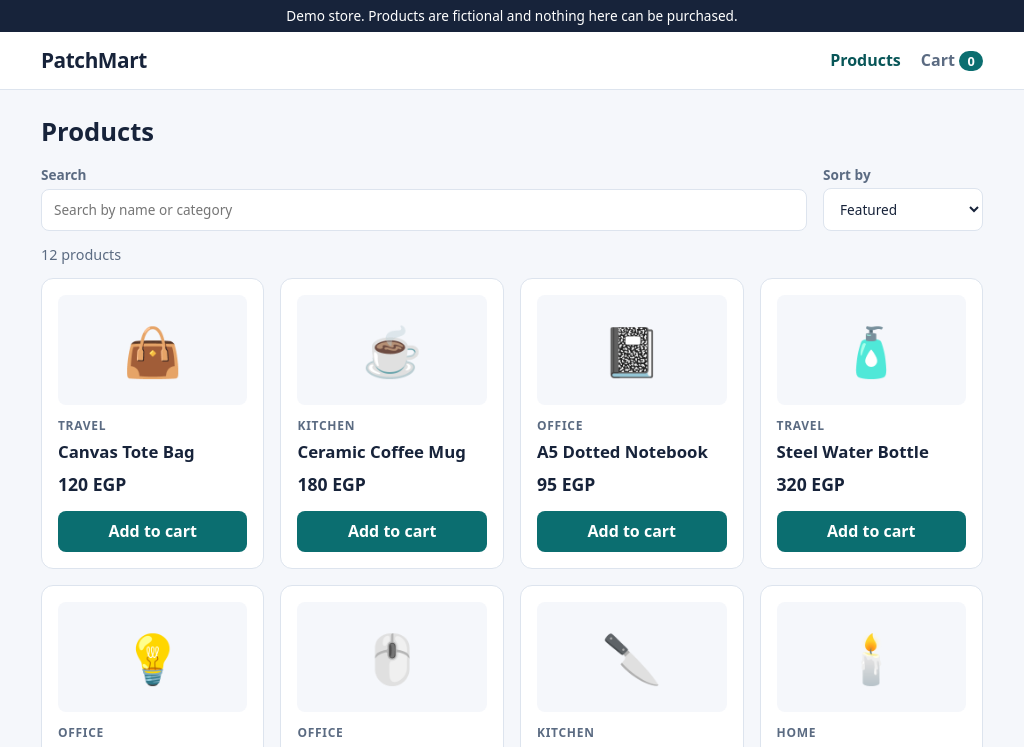
it: cart page › lists added products and keeps checkout disabled
The image size is (1024, 747).
Click the button "Add to cart" below "Ceramic Coffee Mug": (392, 532) [298, 511, 487, 552]
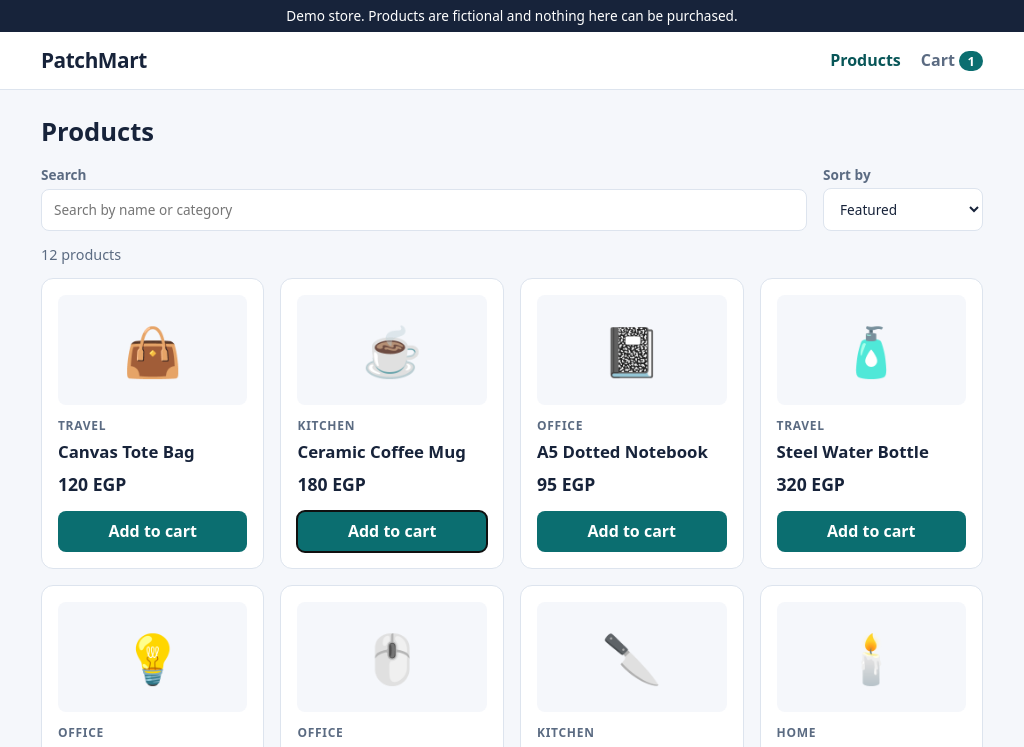
Click the link "Cart 1": (952, 60) [921, 49, 983, 71]
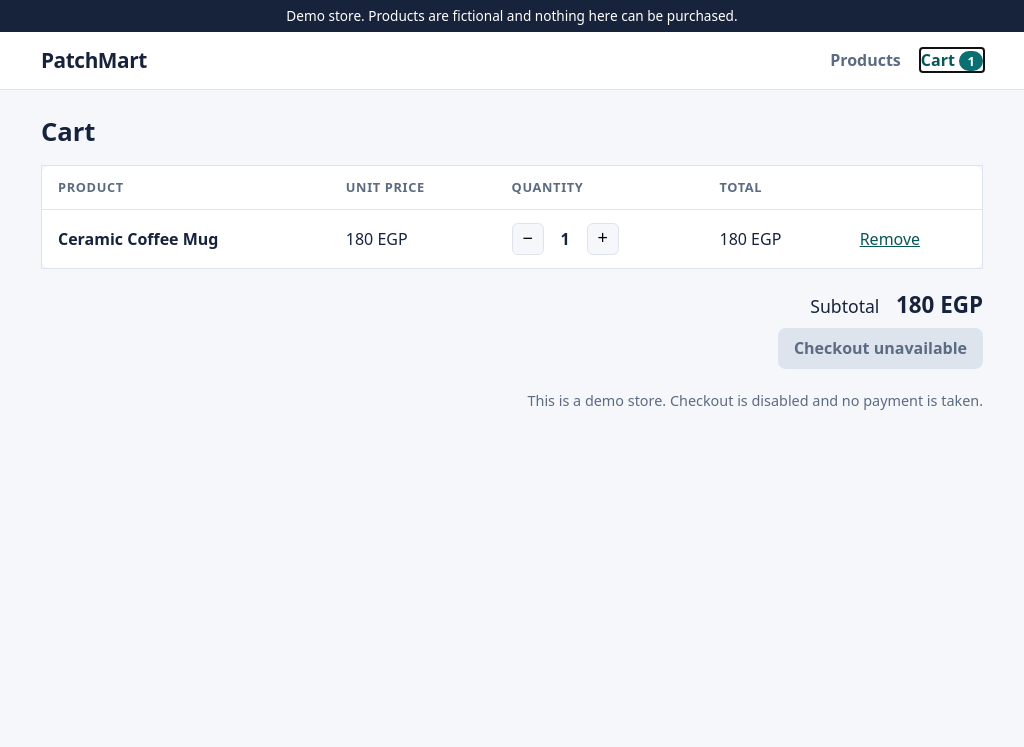
Expected: the column heading "Ceramic Coffee Mug" is shown, [42, 210, 330, 268]
Expected: the number of rows with test id "cart-line" is 1, [42, 210, 983, 268]
Expected: the button "Checkout unavailable" is disabled, [778, 328, 983, 369]
